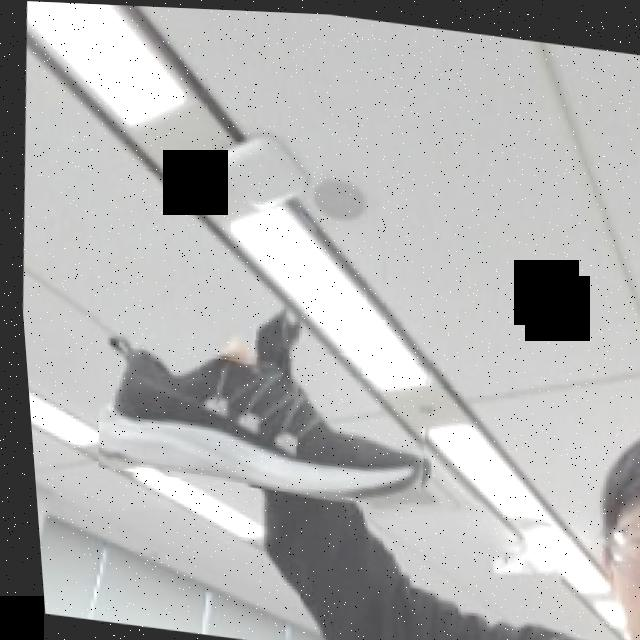shoe: (79, 276, 439, 508)
